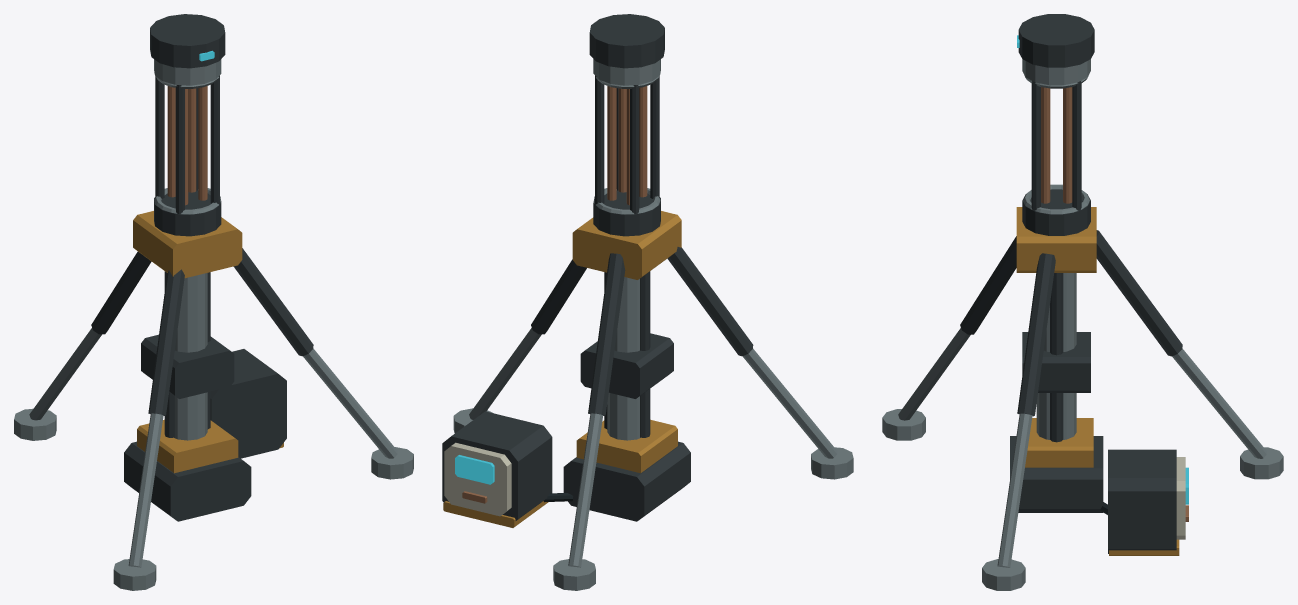
The model's file is resonance_tower_disabled.glb.
3 views of the same model, side by side, from view 1: azimuth 30°, elevation 25°; view 2: azimuth 150°, elevation 25°; view 3: azimuth 270°, elevation 25° (orthographic).
Parts seen in each view (by area): view 1: resonance_tower_disabled; view 2: resonance_tower_disabled; view 3: resonance_tower_disabled.
Boxes of the visible parts, <box> form: resonance_tower_disabled: <box>14,14,413,590</box>; resonance_tower_disabled: <box>442,14,853,590</box>; resonance_tower_disabled: <box>882,14,1283,590</box>.
Size of the model in its own units: 2.09 by 2.71 by 2.11.
